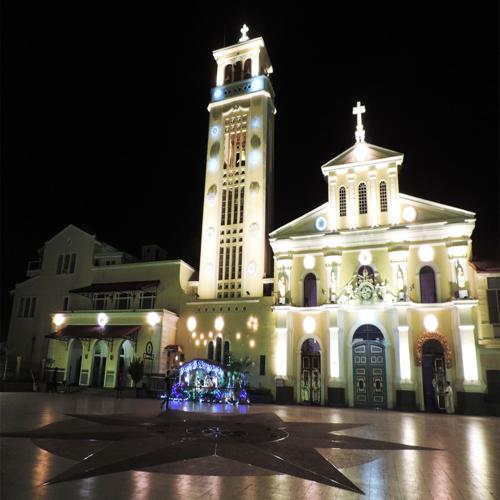Manaoag Church: (194, 19, 479, 419)
